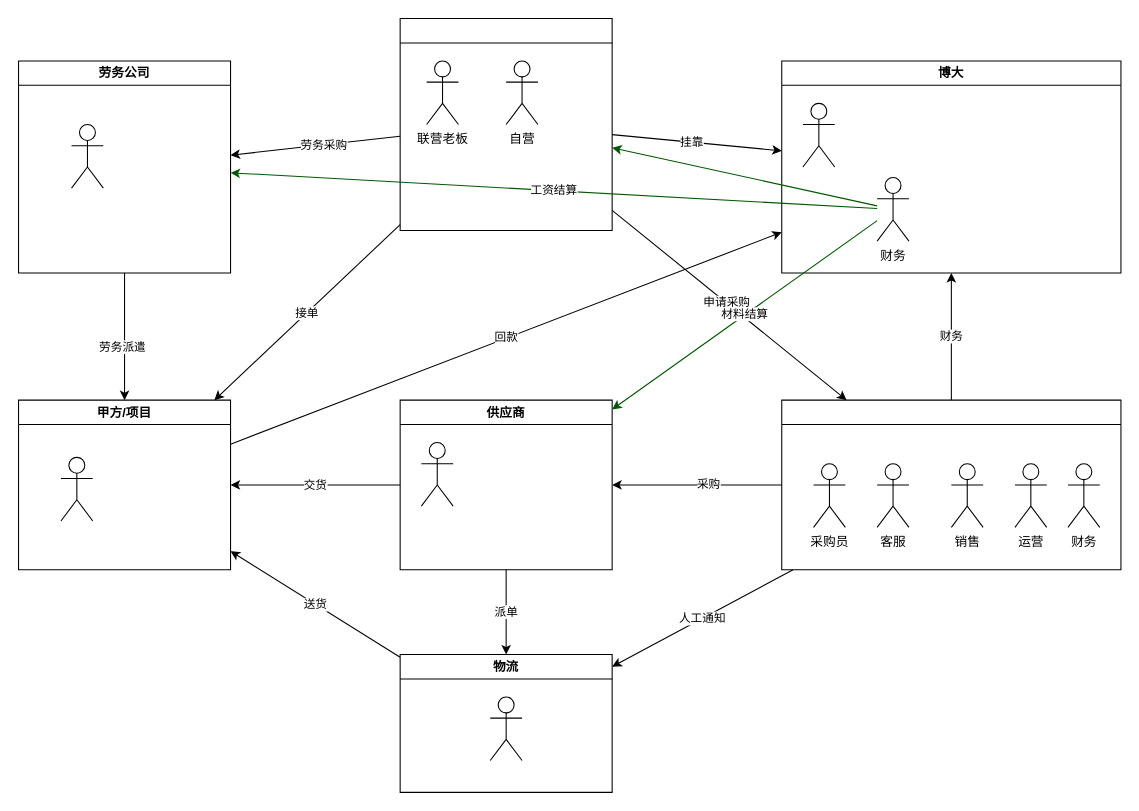
Image size: 1139x811. Some labels were removed from this diagram. The box of each missing label's shape, as (x1, y1, x2, y2) in pixels:
业务员: (420, 441, 453, 506)
司机: (489, 696, 522, 761)
客户: (60, 456, 93, 521)
建队长: (802, 102, 835, 167)
施工员: (70, 123, 103, 188)
甲乙科技（平台）: (781, 399, 1121, 570)
联营/自营客户: (399, 17, 612, 231)
